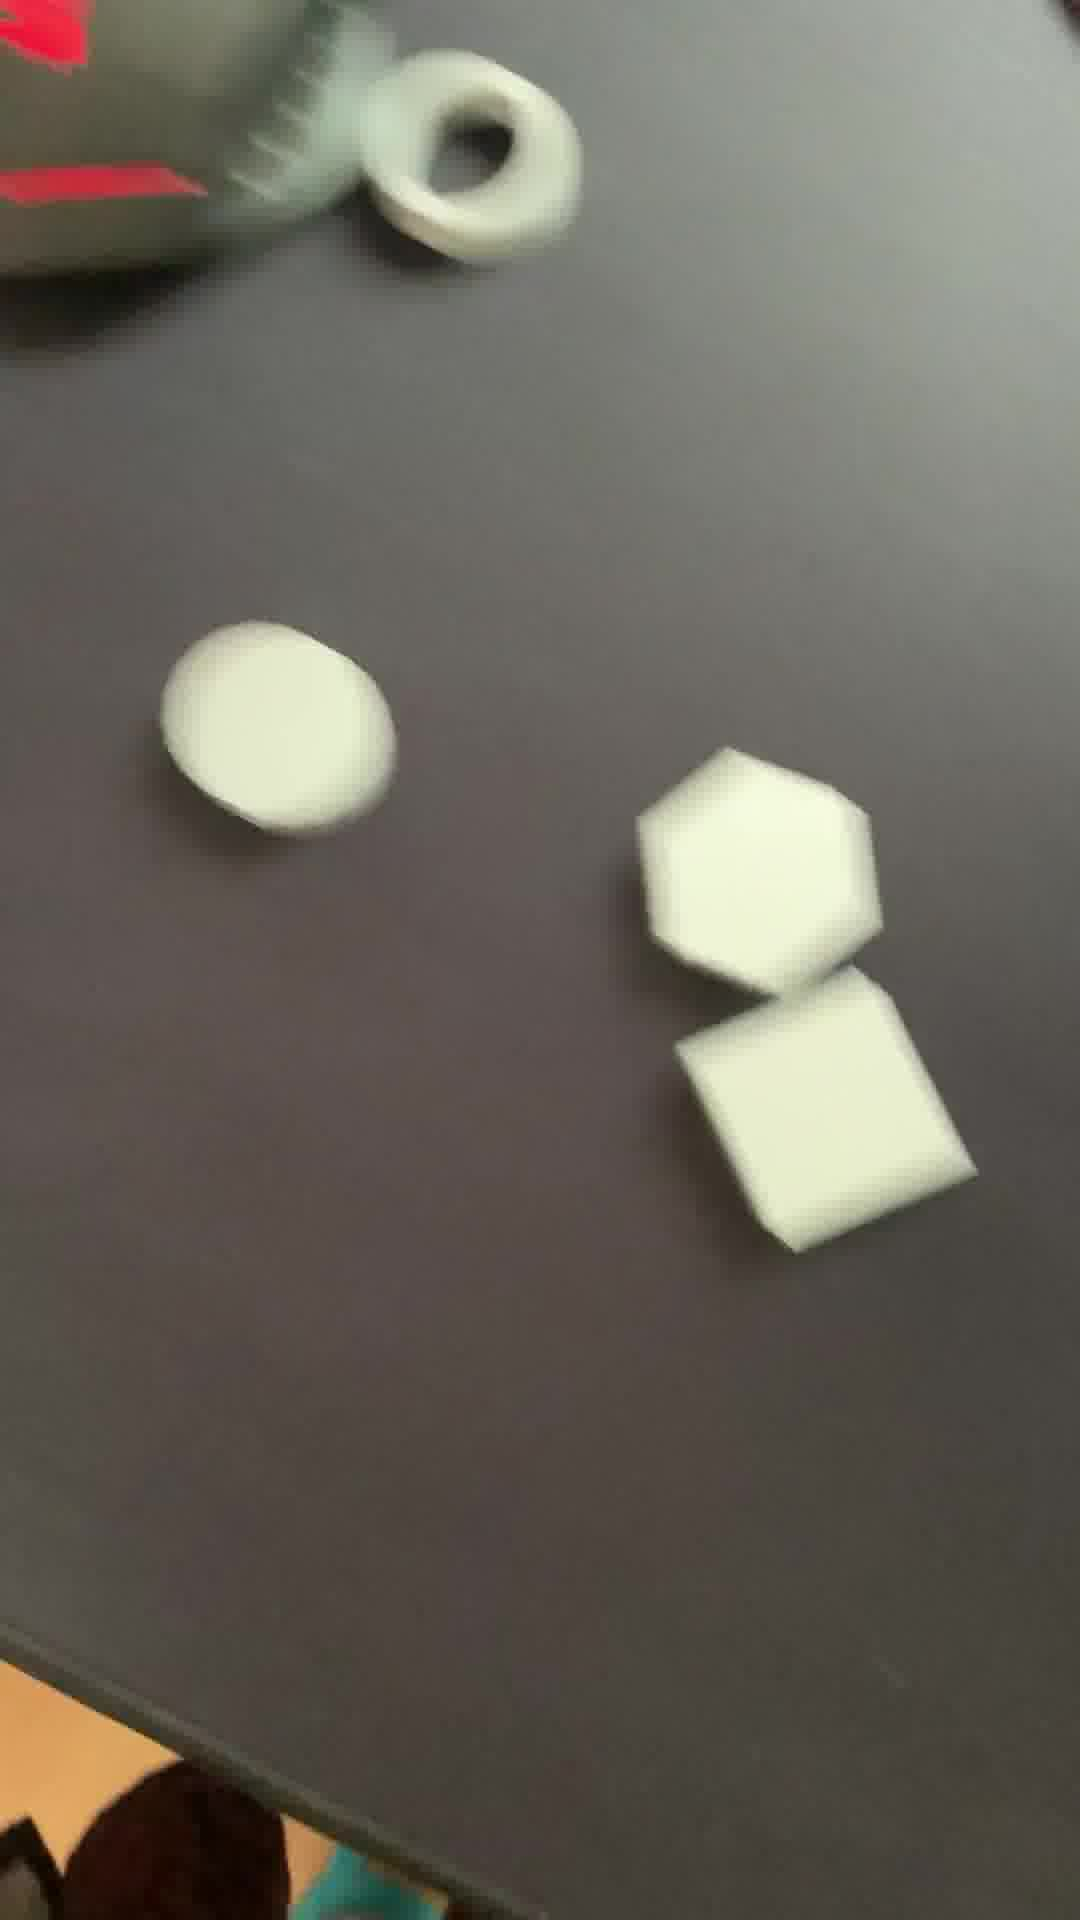Gray circle: (189, 611, 447, 814)
Gray hexagon: (621, 761, 886, 985)
Gray ring: (390, 50, 611, 262)
Gray square: (682, 989, 980, 1255)
